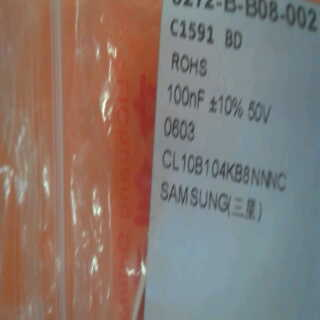100nF: (162, 80, 207, 112)
